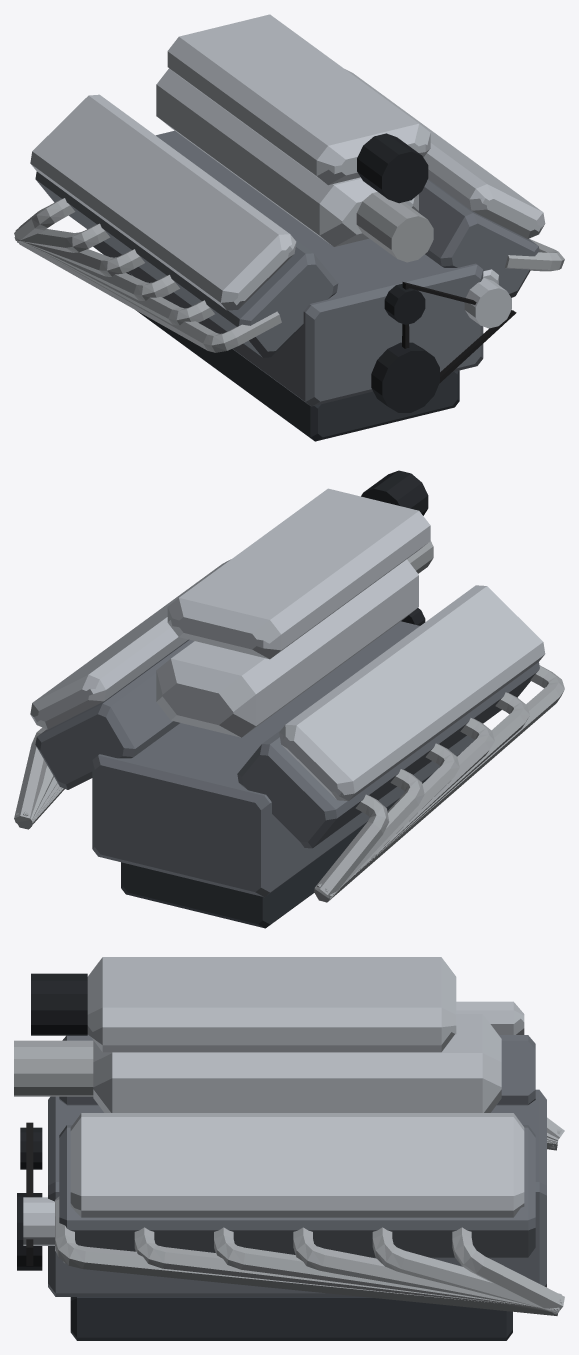
File: crate_kugel_v12i.glb
3 renders of one model, top to bottom at view 1: azimuth 30°, elevation 25°; view 2: azimuth 150°, elevation 25°; view 3: azimuth 270°, elevation 25°, orthographic. The views are drawn at different scales.
Parts seen in each view (by area): view 1: model; view 2: model; view 3: model.
Boxes of the visible parts, x1,y1,x2,y2 form: model: (14,14,564,441); model: (14,470,564,928); model: (14,957,564,1340).
Bounding box in the file's own units: 0.7429 × 0.5691 × 0.8744.
Materials: 3 (1 with a texture image).
